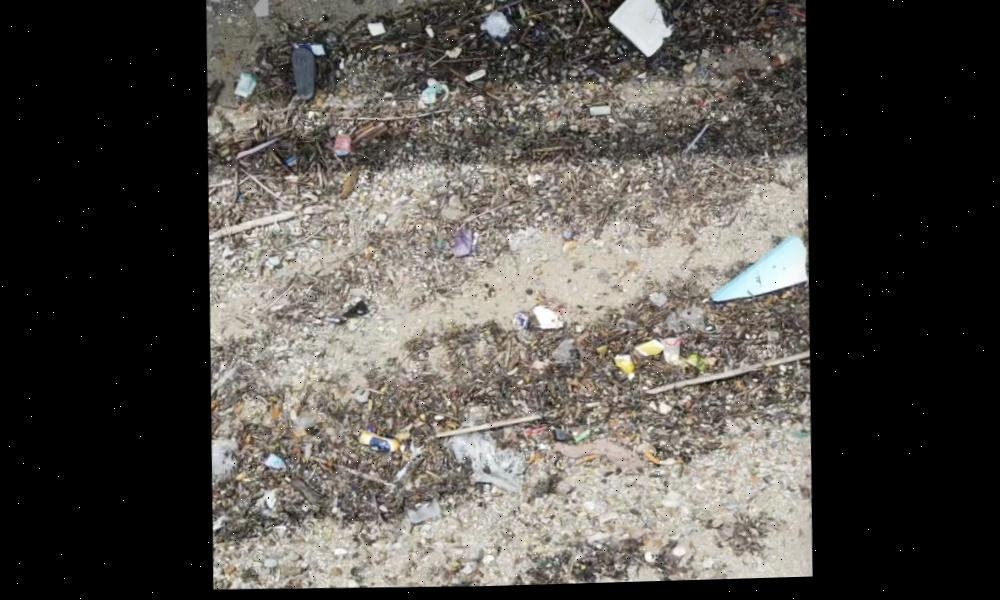plastic bottle: (352, 430, 407, 456)
